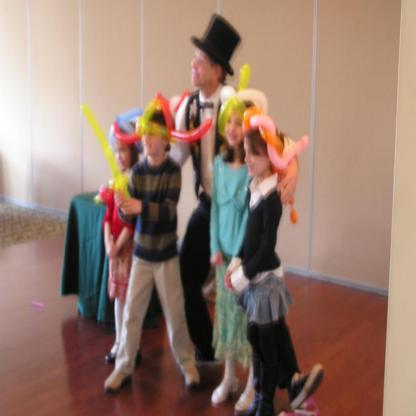face: (245, 135, 268, 176), (192, 48, 216, 87), (226, 111, 248, 147), (144, 119, 164, 155), (115, 138, 133, 168)
